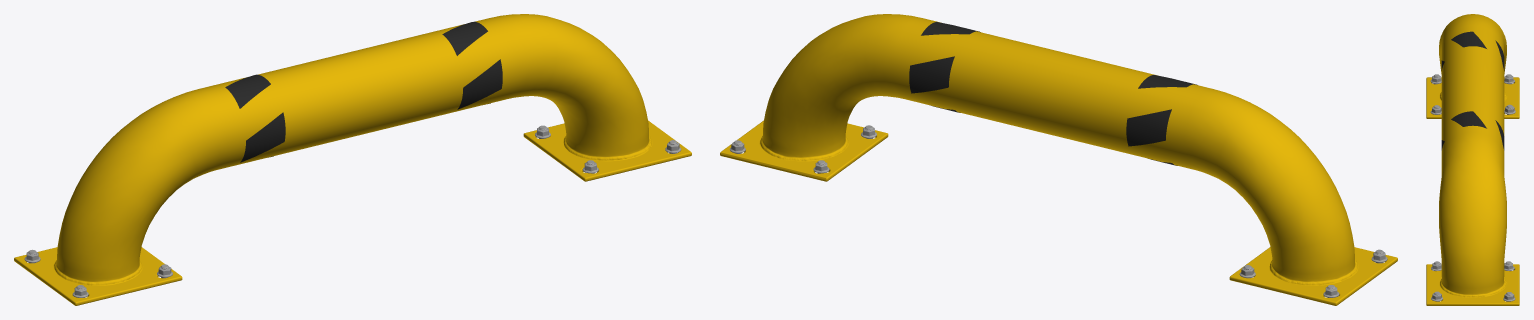
Rendered from machineGuard_a01.glb.
The picture shows the model from 3 angles, left to right: view 1: azimuth 30°, elevation 25°; view 2: azimuth 150°, elevation 25°; view 3: azimuth 270°, elevation 25°; orthographic projection. The views are drawn at different scales.
Parts seen in each view (by area): view 1: sm_machineGuard_a01_mesh_00; view 2: sm_machineGuard_a01_mesh_00; view 3: sm_machineGuard_a01_mesh_00.
Boxes of the visible parts, left/top/right/bottom form: sm_machineGuard_a01_mesh_00: left=14, top=14, right=691, bottom=305; sm_machineGuard_a01_mesh_00: left=720, top=14, right=1397, bottom=305; sm_machineGuard_a01_mesh_00: left=1426, top=14, right=1519, bottom=305.
Size of the model in its own units: 0.9769 by 0.231 by 0.1699.
3 materials, 1 textured.
